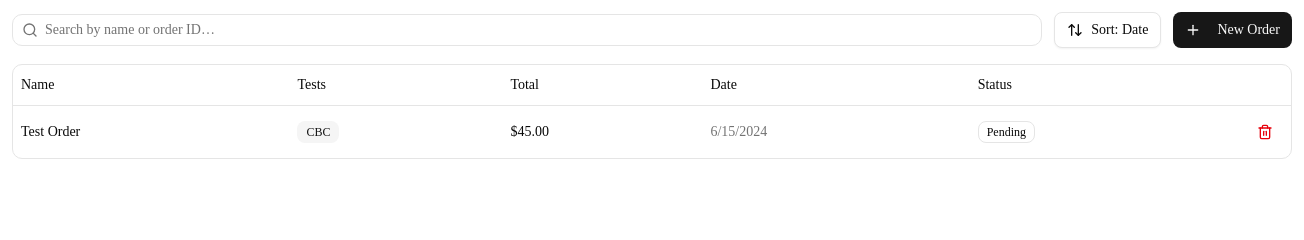
Test: OrderTable › shows 'No orders match your search.' for zero results
In the field with placeholder "Search by name or order ID…": (527, 30) [12, 14, 1042, 46], type "xxxxxxxx"
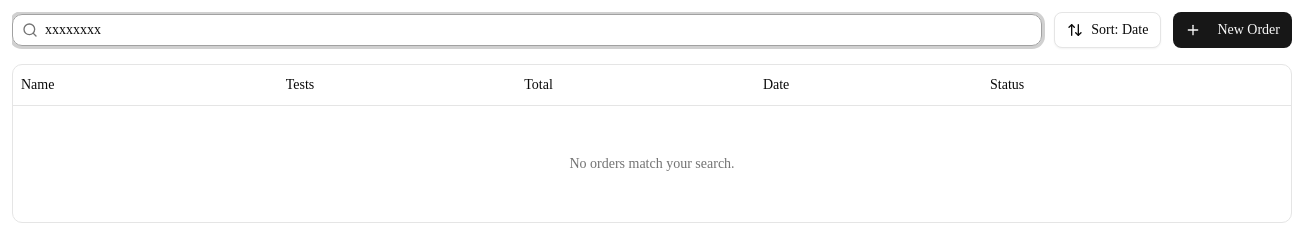
Expected: the text "No orders match your search." is shown, [13, 105, 1291, 222]
